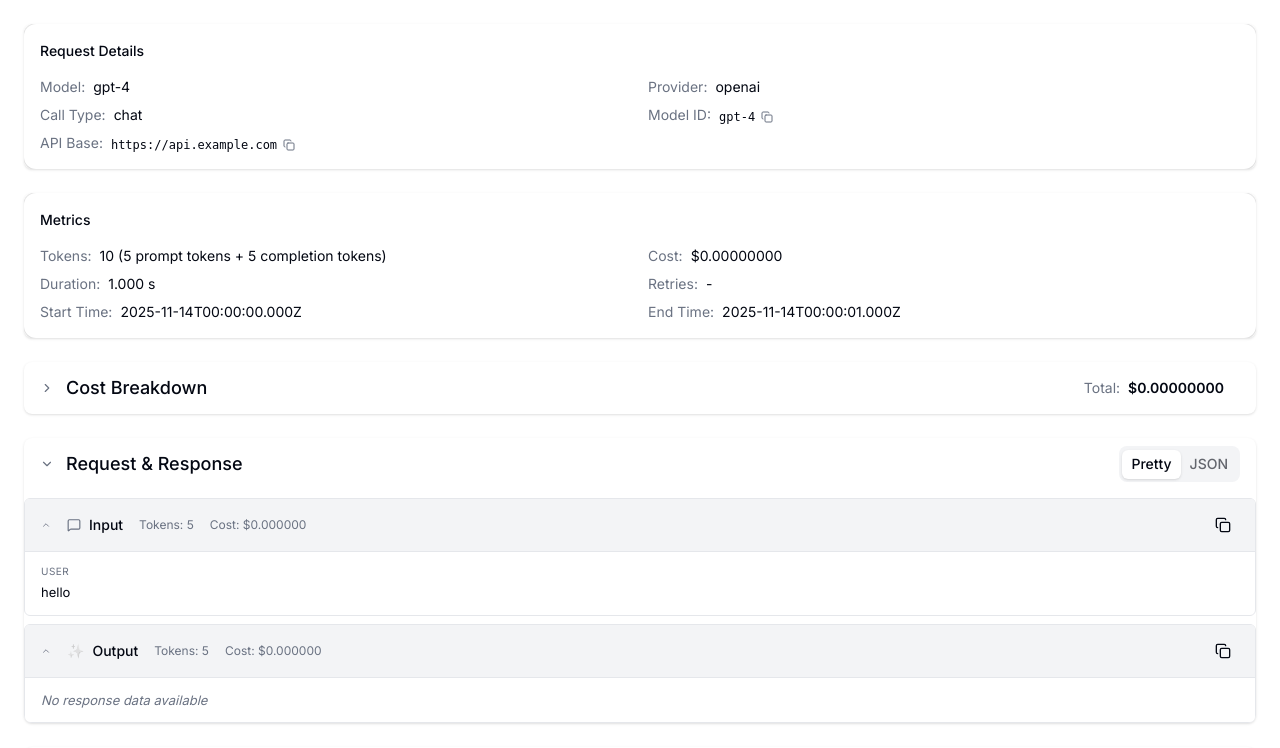
Test: LogDetailContent › should display response not available message when no response and Response tab is selected
Click the tab "JSON".
click(1209, 464)  # box x1=1181 y1=450 x2=1237 y2=478
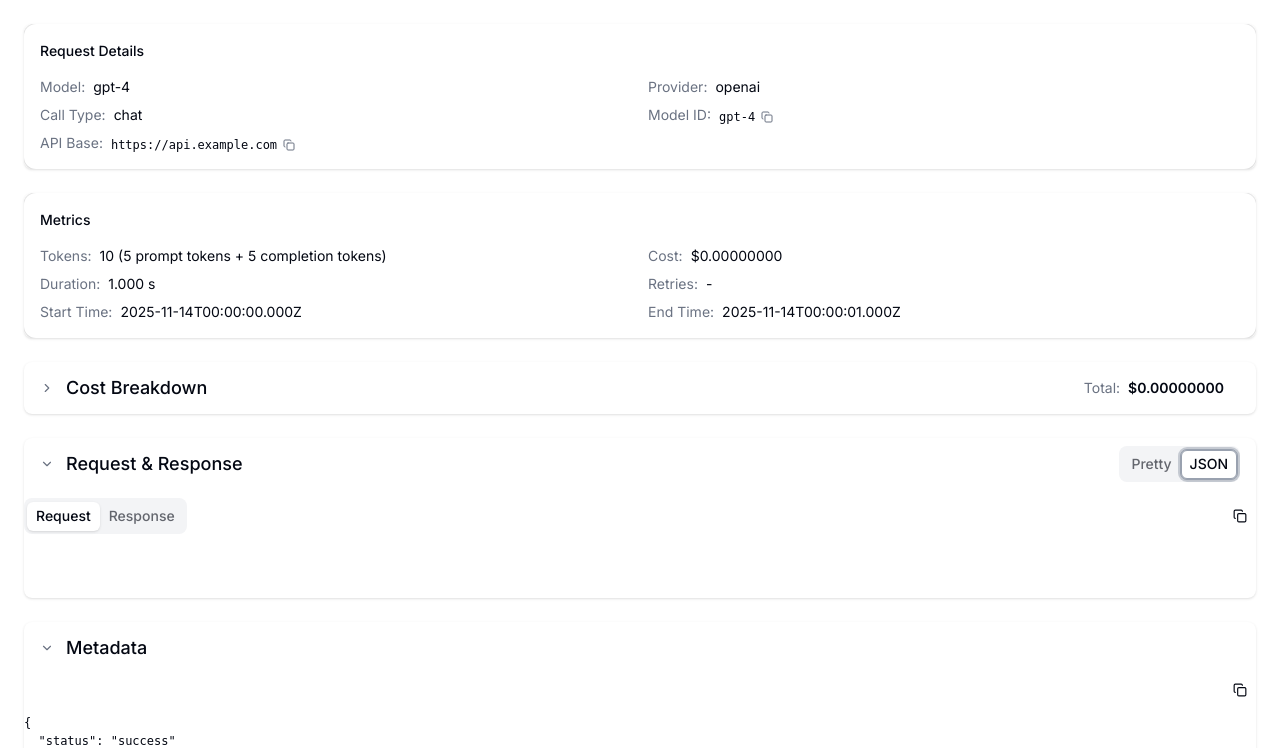
Click the tab "Response".
click(142, 516)  # box x1=100 y1=502 x2=184 y2=530
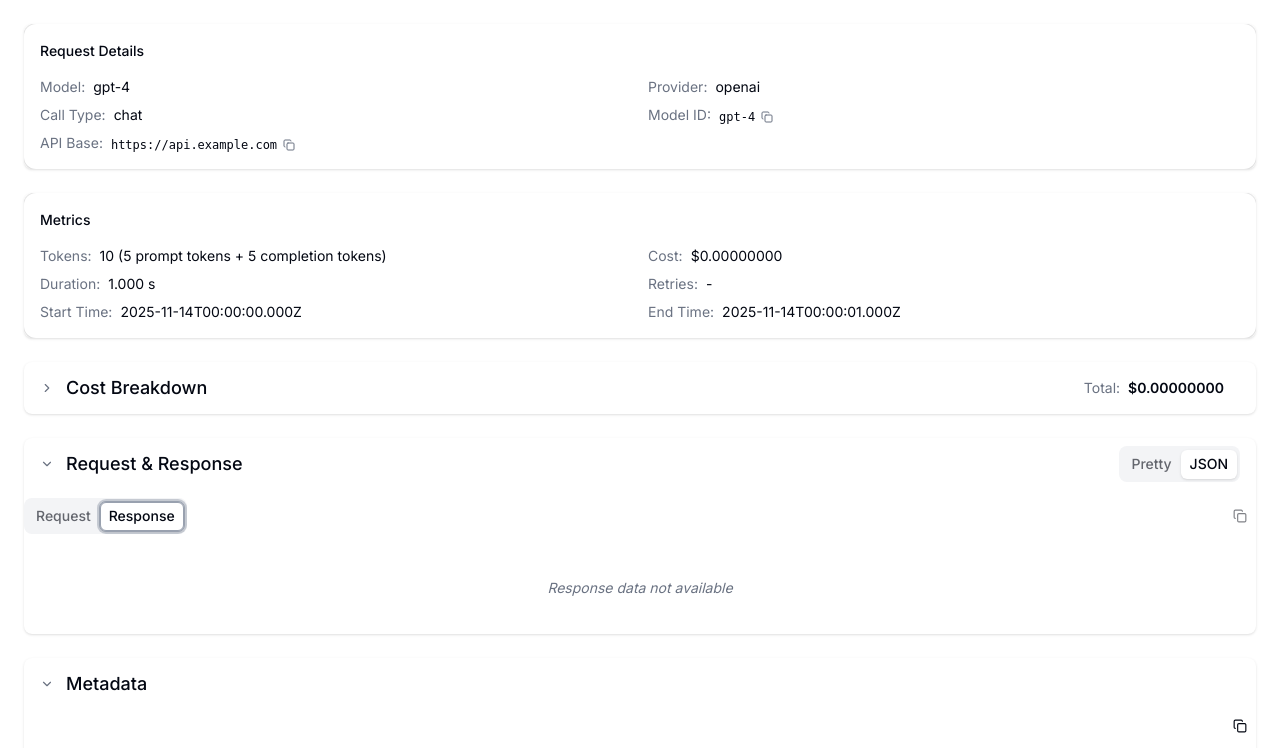
expect the text "Response data not available" is shown: met, box x1=547 y1=579 x2=733 y2=596
